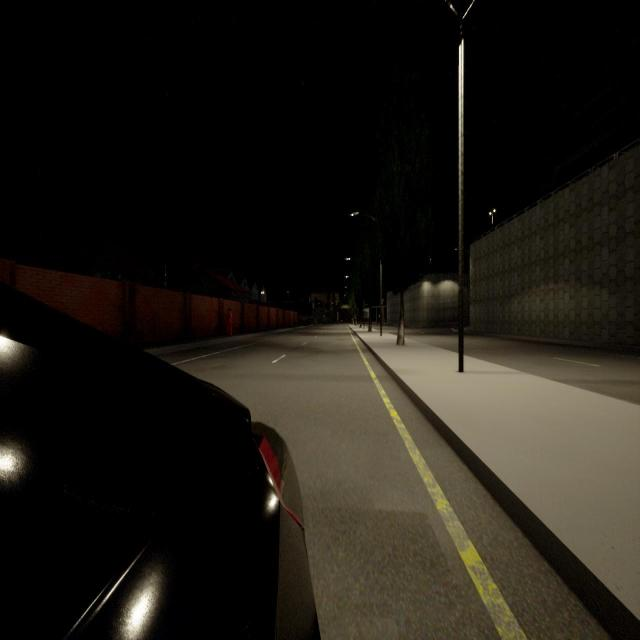Pedestrian: (226, 308, 232, 335)
Vehicle: (0, 288, 314, 638)
